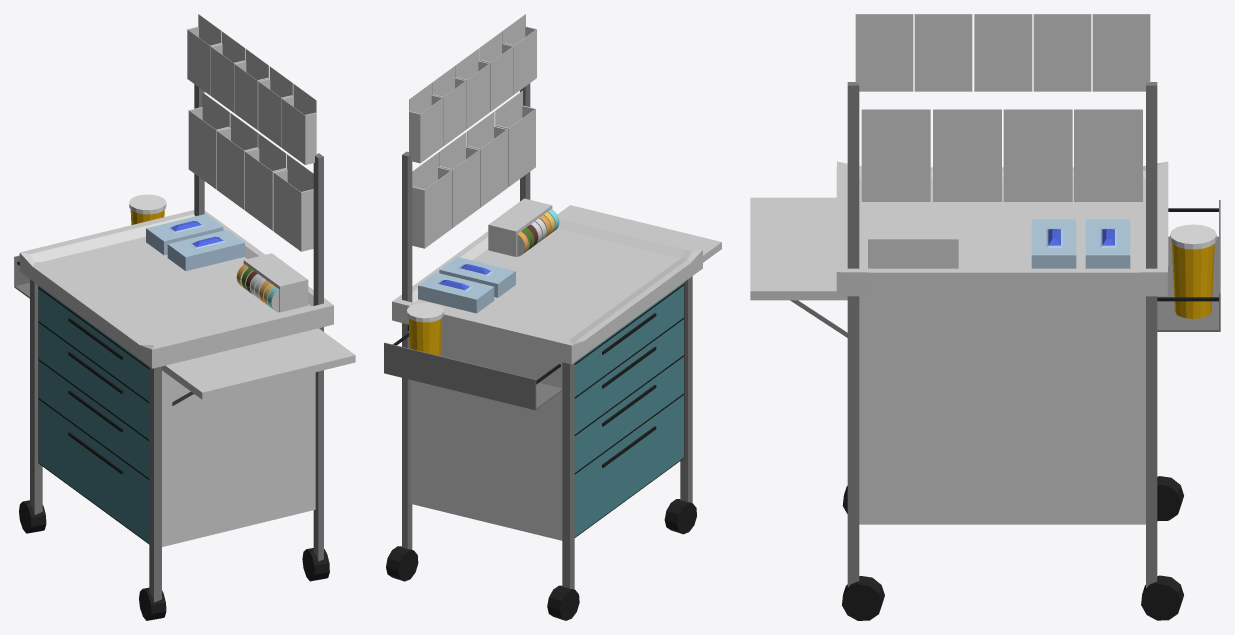
Rendered from anesthesiekar.glb.
The picture shows the model from 3 angles, left to right: view 1: azimuth 30°, elevation 25°; view 2: azimuth 150°, elevation 25°; view 3: azimuth 270°, elevation 25°; orthographic projection. The views are drawn at different scales.
Visible parts, largest first — view 1: anesthesiekar; view 2: anesthesiekar; view 3: anesthesiekar.
Part boxes in pixels (<box>): anesthesiekar: <box>14,14,355,620</box>; anesthesiekar: <box>384,14,721,620</box>; anesthesiekar: <box>750,14,1220,620</box>.
Size of the model in its own units: 0.7321 by 1.84 by 1.3.
